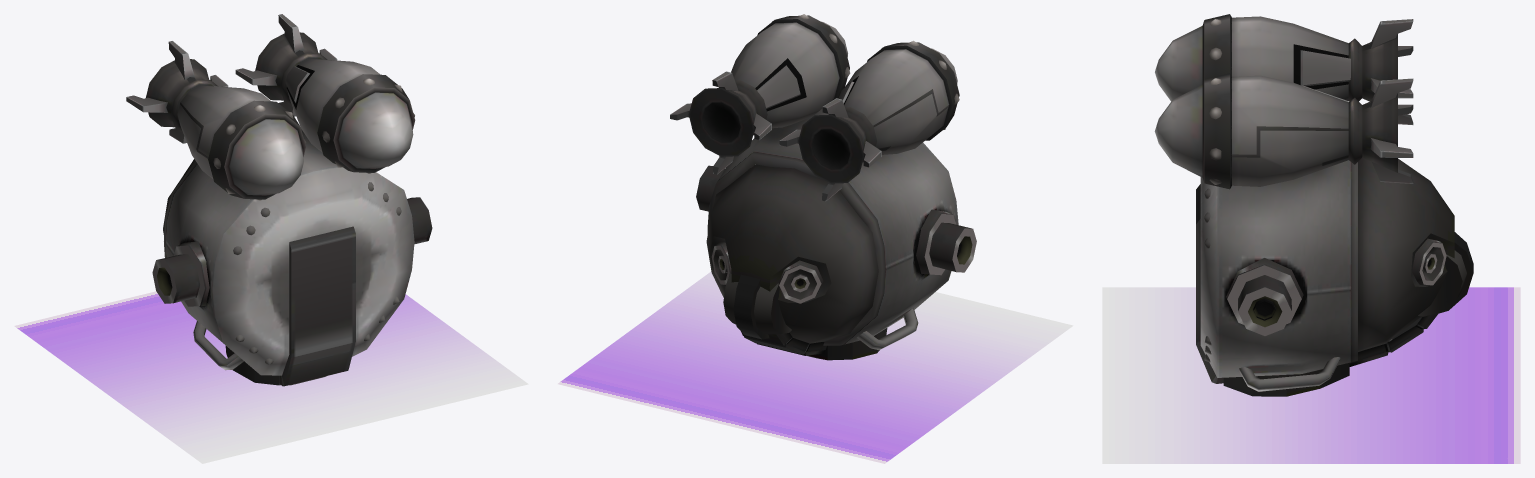
The model's file is iron_teatans_body.fbx.
3 renders of one model, left to right at view 1: azimuth 30°, elevation 25°; view 2: azimuth 150°, elevation 25°; view 3: azimuth 270°, elevation 25°, orthographic. The views are drawn at different scales.
Parts seen in each view (by area): view 1: real_mesh, shadow; view 2: real_mesh, shadow; view 3: real_mesh, shadow.
Boxes of the visible parts, bbox=[...] form: real_mesh: bbox=[126, 14, 432, 386]; shadow: bbox=[14, 291, 528, 463]; real_mesh: bbox=[670, 14, 976, 360]; shadow: bbox=[558, 271, 1073, 463]; real_mesh: bbox=[1154, 14, 1473, 396]; shadow: bbox=[1102, 287, 1520, 463].
Bounding box in the file's own units: 4.2 × 3.62 × 4.2.
